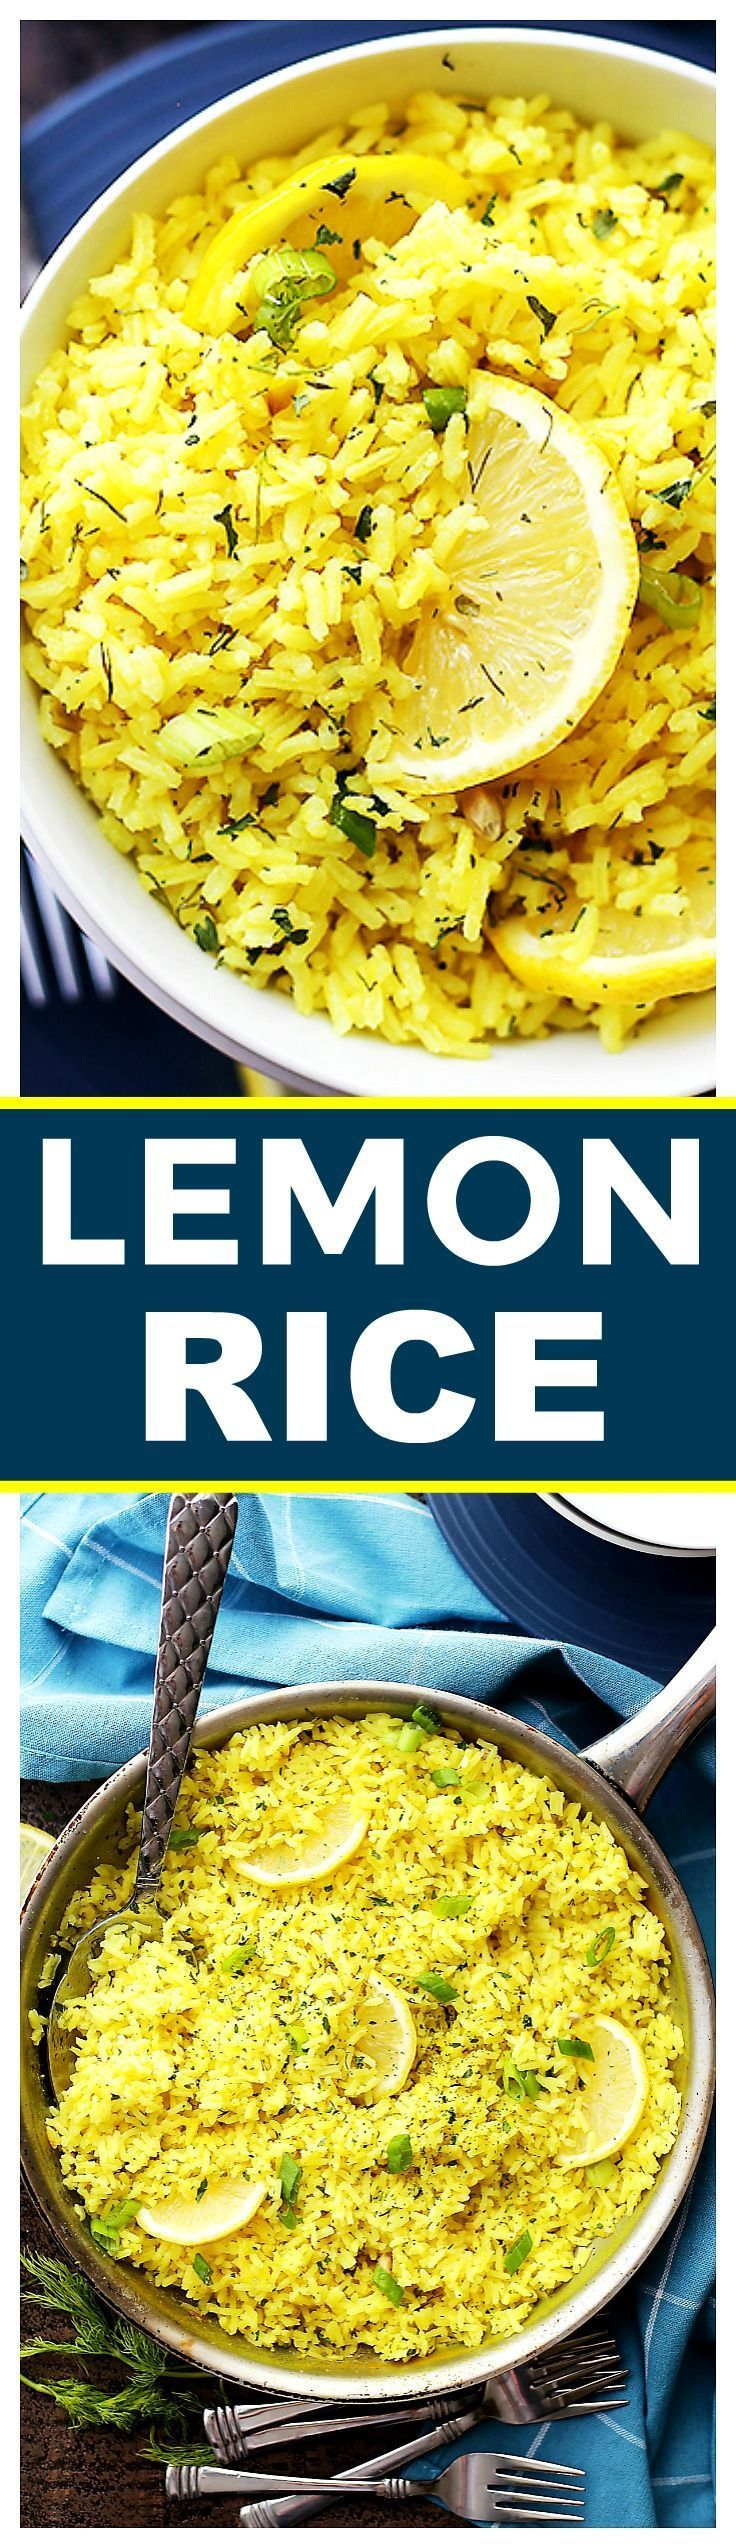plain rice: (37, 115, 736, 1032), (47, 1714, 669, 2372)
